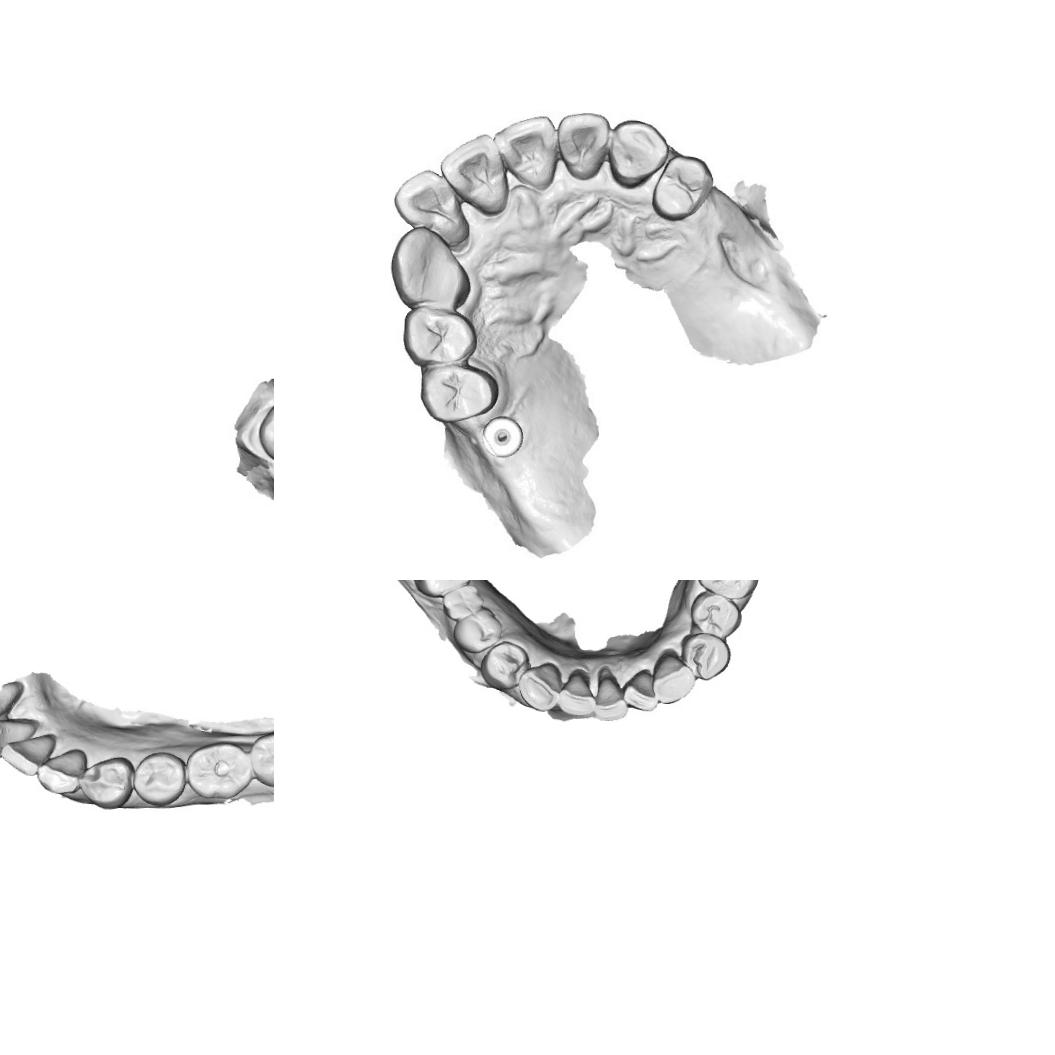canine: (387, 222, 470, 310), (605, 116, 668, 190), (650, 650, 698, 706), (36, 748, 90, 796), (516, 661, 562, 713)
implant: (481, 416, 522, 462)
incisor: (390, 164, 472, 249), (436, 130, 509, 218), (489, 112, 561, 190), (551, 107, 610, 186), (0, 730, 56, 781), (556, 668, 598, 718), (593, 667, 630, 722), (621, 666, 660, 712), (0, 715, 37, 762)
molar: (185, 741, 249, 802), (439, 583, 485, 622), (248, 728, 274, 790), (694, 580, 765, 601), (254, 395, 274, 469), (404, 580, 473, 599)
premolar: (400, 303, 480, 370), (413, 364, 498, 426), (647, 152, 717, 221), (131, 749, 189, 807), (84, 755, 136, 809), (679, 631, 733, 682), (478, 640, 530, 692), (688, 591, 743, 640), (452, 605, 504, 654)
